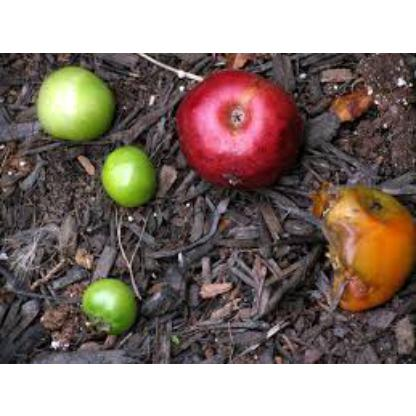apple: (34, 71, 107, 135), (96, 145, 158, 207), (77, 277, 133, 331)
damaged_apple: (175, 74, 308, 186), (310, 186, 406, 308)
